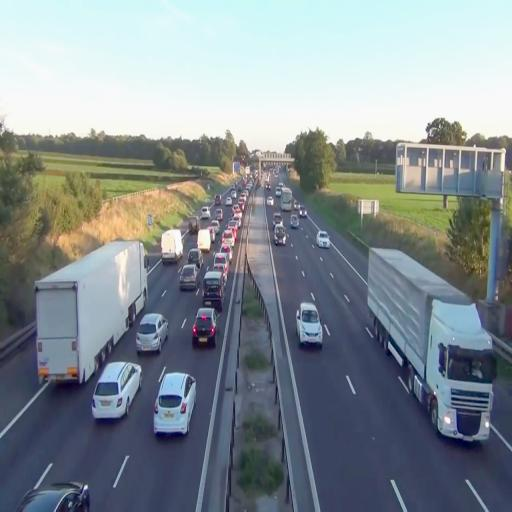vehicle: (364, 246, 498, 443), (34, 238, 148, 384), (18, 465, 90, 511), (91, 361, 142, 421), (153, 370, 197, 436), (136, 312, 168, 354), (296, 301, 324, 348), (192, 306, 218, 348), (201, 269, 223, 313), (161, 228, 184, 266), (179, 263, 199, 290), (276, 185, 293, 210), (273, 219, 287, 245), (317, 231, 330, 248)
